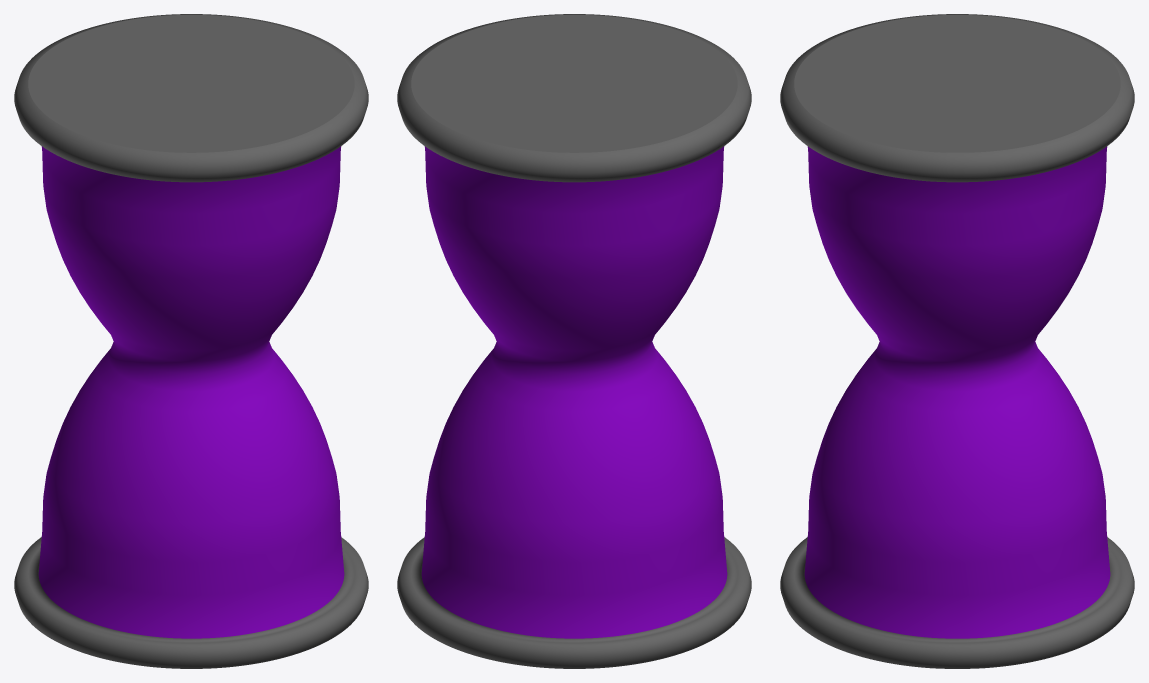
The model's file is hourglasseye.fbx.
3 views of the same model, side by side, from view 1: azimuth 30°, elevation 25°; view 2: azimuth 150°, elevation 25°; view 3: azimuth 270°, elevation 25° (orthographic).
Visible parts, largest first — view 1: pCylinder2; view 2: pCylinder2; view 3: pCylinder2.
Part boxes in pixels (box(x1,y1,x2,y2)): pCylinder2: box(14, 14, 368, 668); pCylinder2: box(397, 14, 751, 668); pCylinder2: box(780, 14, 1134, 668).
Bounding box in the file's own units: 6.31 × 10.13 × 6.32.
